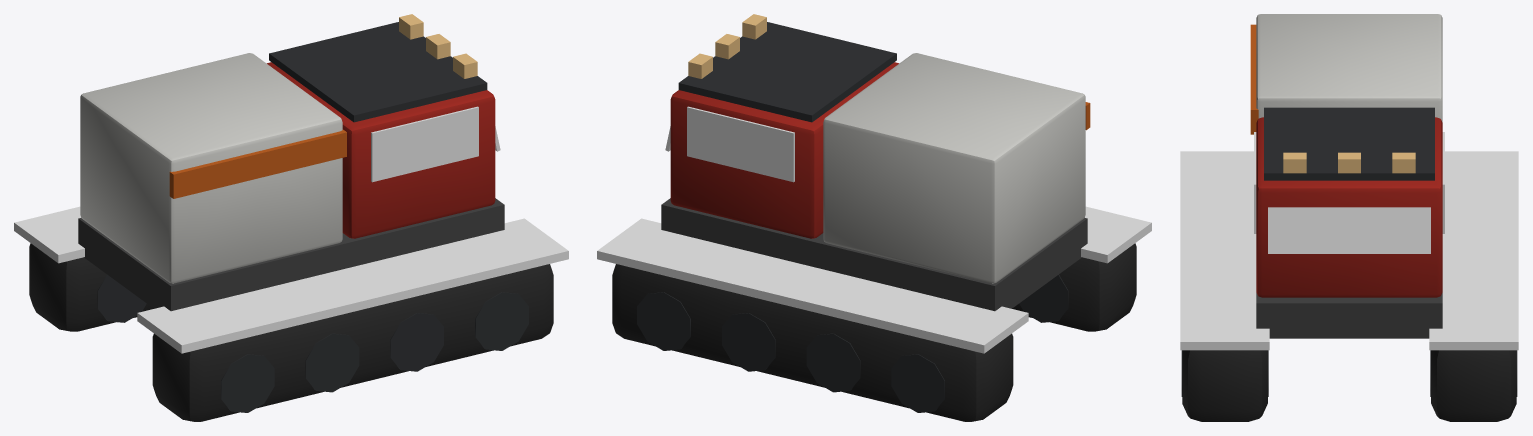
Rendered from snowcat.glb.
3 renders of one model, left to right at view 1: azimuth 30°, elevation 25°; view 2: azimuth 150°, elevation 25°; view 3: azimuth 270°, elevation 25°, orthographic.
Visible parts, largest first — view 1: Piece_lod0; view 2: Piece_lod0; view 3: Piece_lod0.
Boxes of the visible parts, box(x1,y1,x2,y2) form: Piece_lod0: box(14, 14, 568, 421); Piece_lod0: box(597, 14, 1151, 421); Piece_lod0: box(1180, 14, 1518, 421).
Size of what is drawn, in the model's own units: 5.8 by 3.6 by 4.35.
